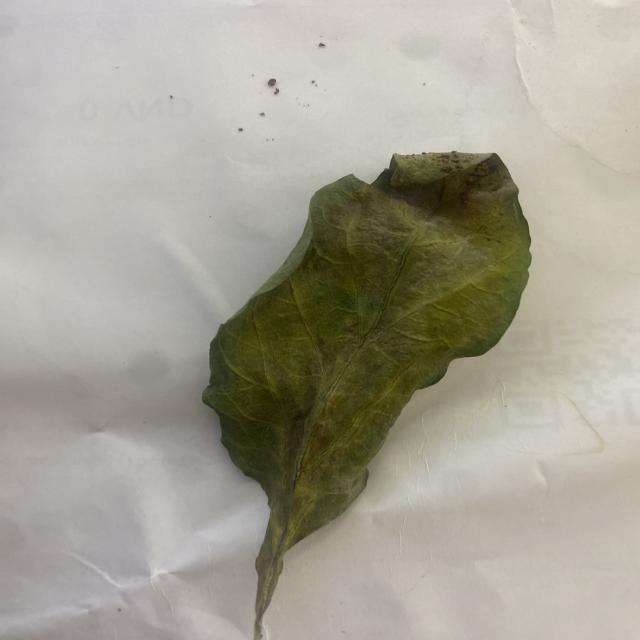Leaf: (202, 151, 532, 560)
